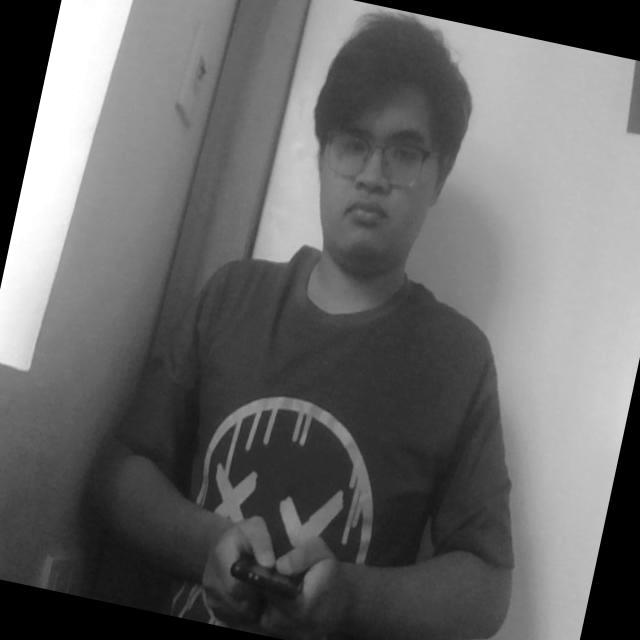phone: (218, 516, 323, 627)
